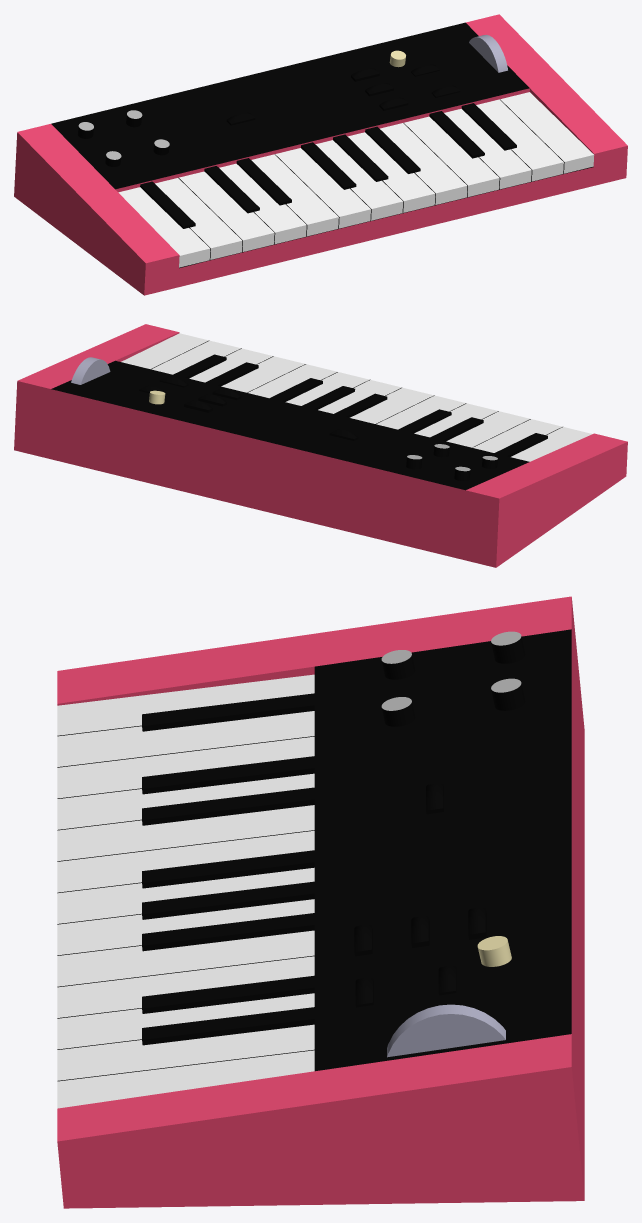
The model's file is ElPoder 1.fbx.
3 views of the same model, one above another, from view 1: azimuth 30°, elevation 25°; view 2: azimuth 150°, elevation 25°; view 3: azimuth 270°, elevation 25° (orthographic). The views are drawn at different scales.
Visible parts, largest first — view 1: Boton_derecho; view 2: Boton_derecho; view 3: Boton_derecho.
Boxes of the visible parts, box(x1,y1,x2,y2) form: Boton_derecho: box(14, 14, 627, 295); Boton_derecho: box(14, 324, 627, 567); Boton_derecho: box(57, 596, 584, 1208).
Bounding box in the file's own units: 1500 × 235 × 710.
